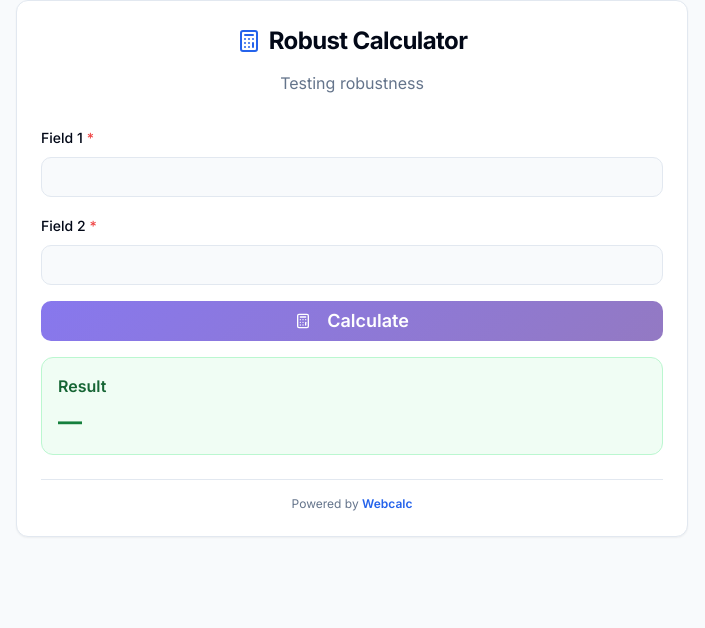
Scenario: Calculator Robustness Tests › Input Validation › handles empty required fields
This screenshot has width=705, height=628.
What coordinates should you click on to do the following:
click the button with test id "button-calculate"
I would click on:
 (352, 321)
Its box is top-left (41, 301), bottom-right (663, 341).
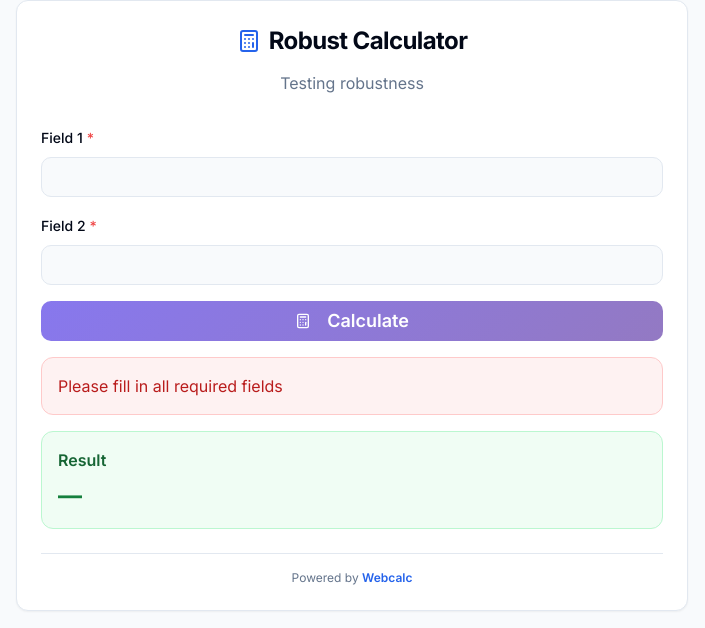
Expected: the text "Please fill in all required fields" is shown, top-left (58, 376), bottom-right (283, 396)
